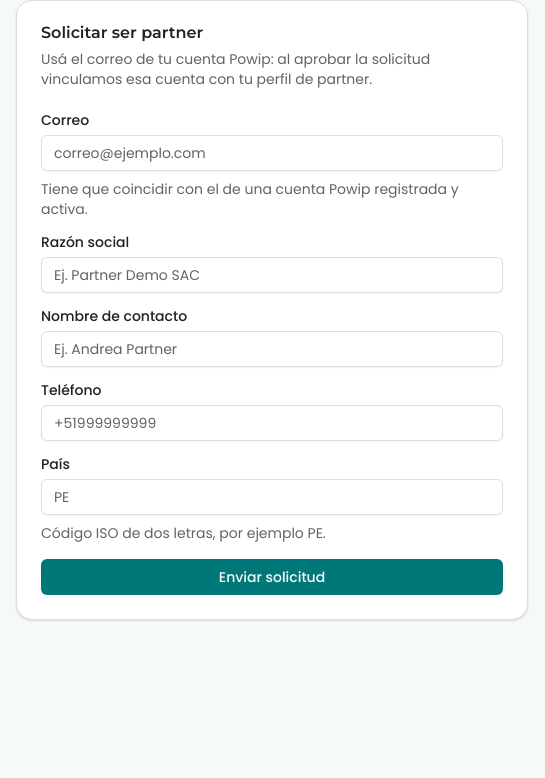
PartnerApplicationForm › rechaza un país que no es un código de dos letras
Type "P1" into the field labelled "País" at (272, 497), box [41, 479, 503, 515]
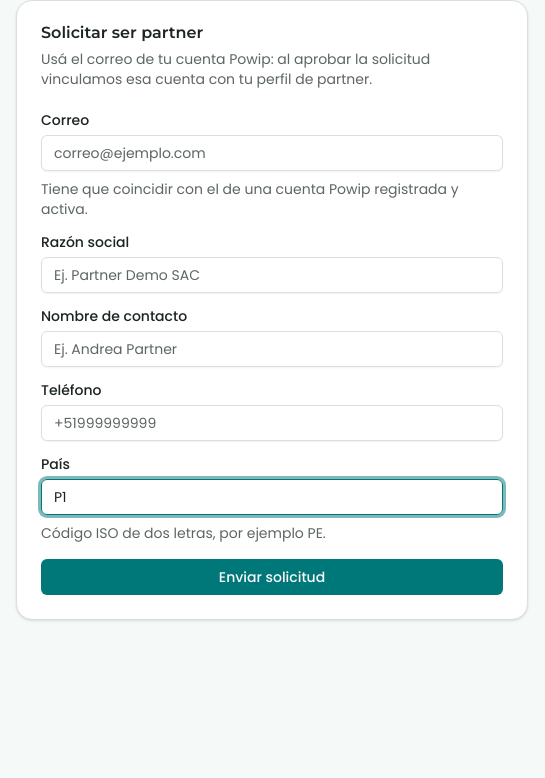
Click the button "Enviar solicitud" at (272, 577), box [41, 559, 503, 595]
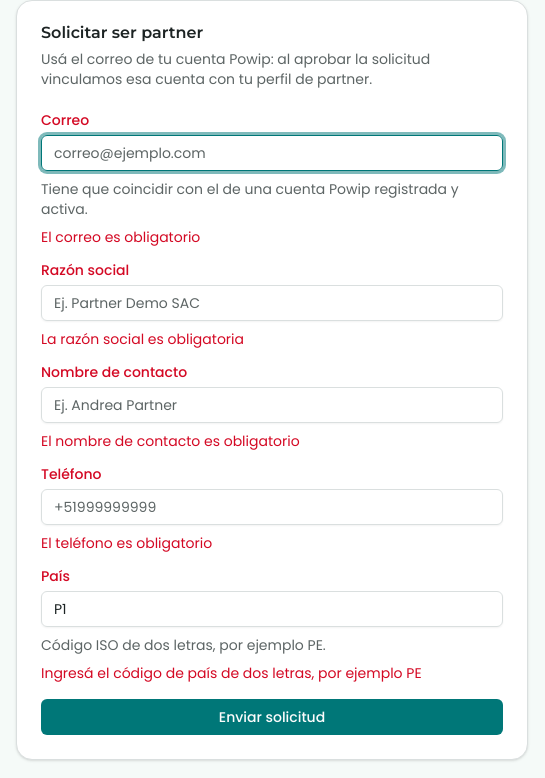
Check: the text "Ingresá el código de país de dos letras, por ejemplo PE" is shown, box [41, 663, 422, 683]
